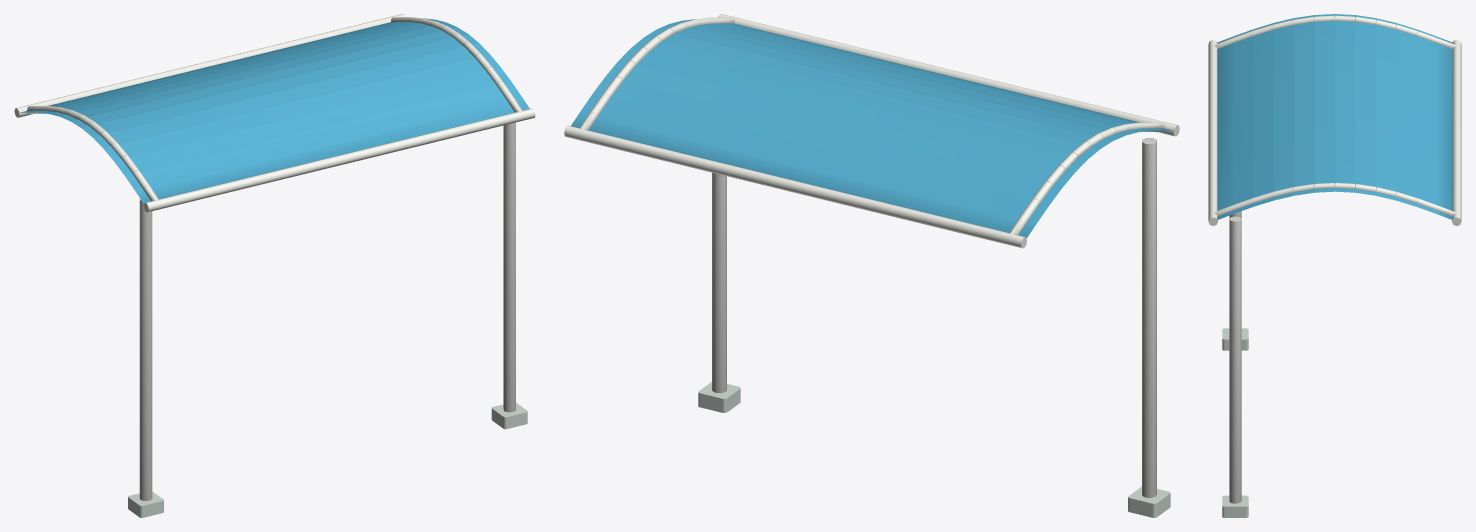
Rendered from station-platform-canopy.glb.
3 views of the same model, side by side, from view 1: azimuth 30°, elevation 25°; view 2: azimuth 150°, elevation 25°; view 3: azimuth 270°, elevation 25° (orthographic). The views are drawn at different scales.
Parts seen in each view (by area): view 1: curved platform glass, canopy back column, canopy footing; view 2: curved platform glass, canopy back column, canopy footing; view 3: curved platform glass, canopy back column, canopy footing.
Part boxes in pixels (<box>): curved platform glass: <box>20,18,529,203</box>; canopy back column: <box>14,14,535,500</box>; canopy footing: <box>128,402,527,517</box>; curved platform glass: <box>571,19,1173,238</box>; canopy back column: <box>564,14,1179,497</box>; canopy footing: <box>698,382,1170,517</box>; curved platform glass: <box>1217,14,1452,219</box>; canopy back column: <box>1208,15,1461,503</box>; canopy footing: <box>1222,328,1248,517</box>.
Size of the model in its own units: 3.05 by 2.63 by 1.83.
